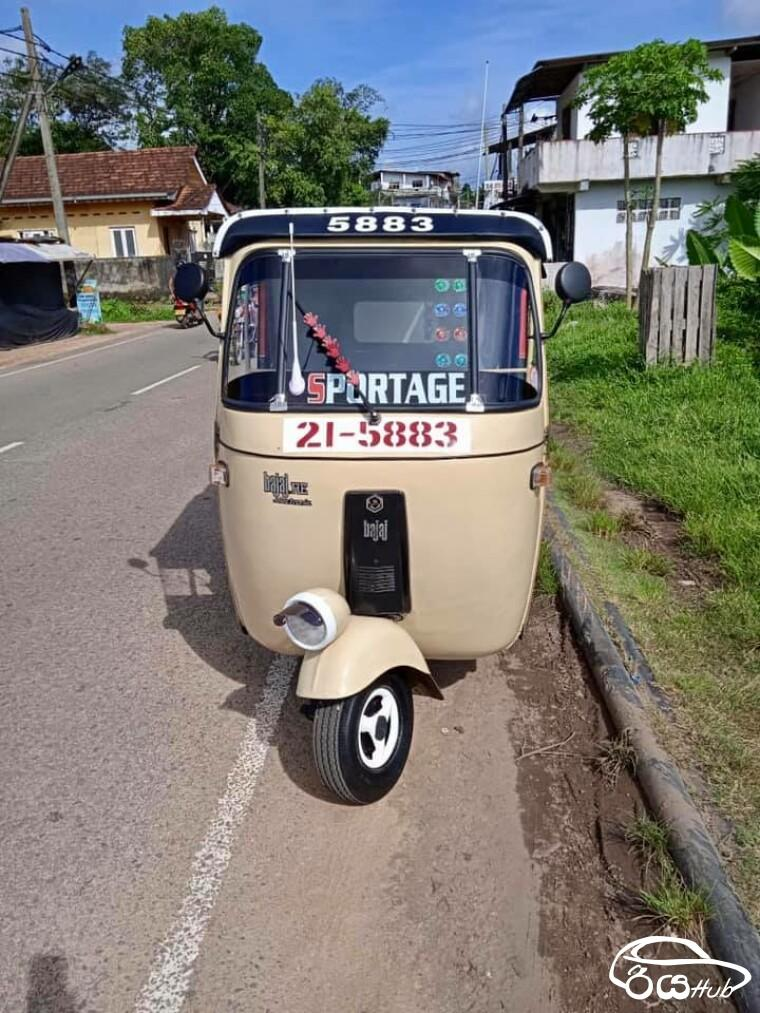threewheel: (174, 205, 591, 807)
